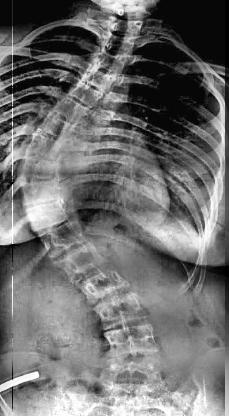Vertebrae: (103, 325, 168, 357), (56, 244, 106, 282), (93, 295, 151, 327), (23, 129, 75, 162), (78, 268, 128, 302), (25, 196, 77, 228), (36, 112, 84, 146), (40, 221, 88, 252), (20, 160, 70, 186), (17, 180, 71, 204), (52, 94, 92, 124), (71, 81, 103, 109), (82, 64, 114, 92), (95, 52, 131, 76), (103, 32, 139, 52)
